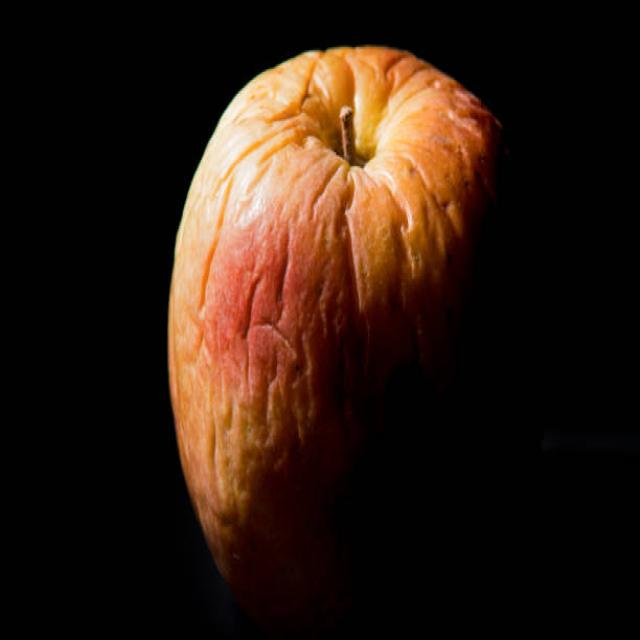overripe: (165, 38, 507, 610)
